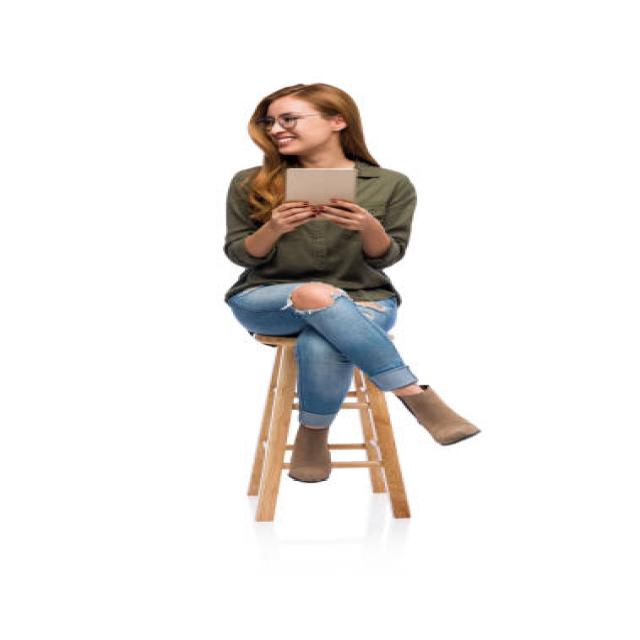Edited images: (191, 67, 507, 513)
